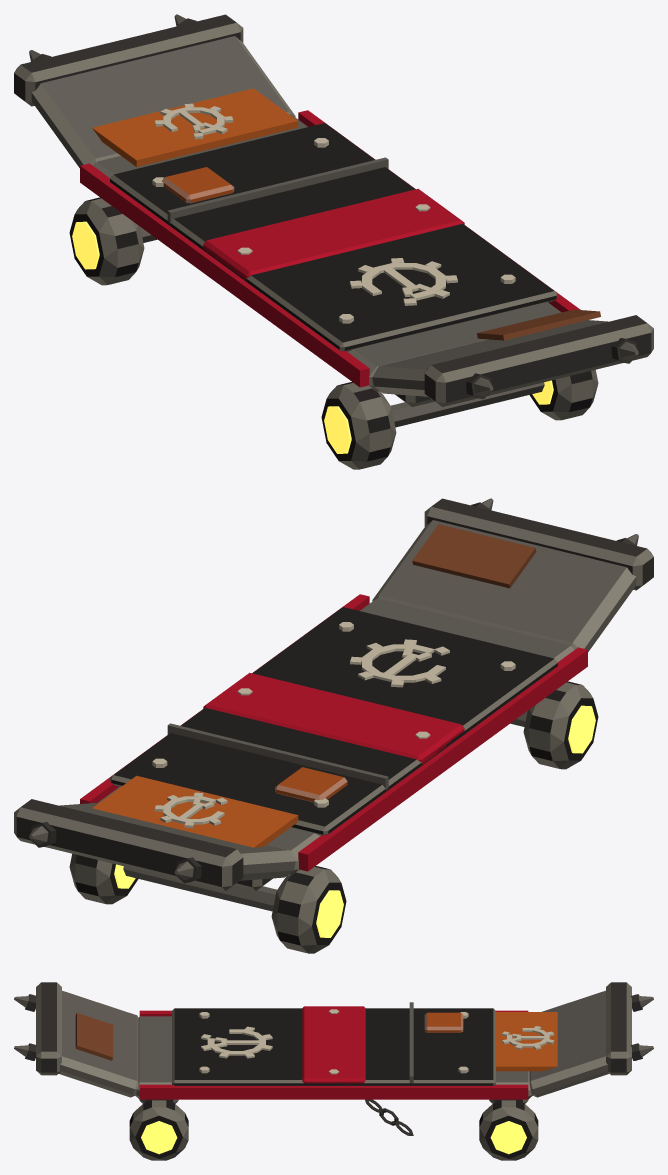
File: p_skateboard.glb
3 renders of one model, top to bottom at view 1: azimuth 30°, elevation 25°; view 2: azimuth 150°, elevation 25°; view 3: azimuth 270°, elevation 25°, orthographic. The views are drawn at different scales.
Parts seen in each view (by area): view 1: p_skateboard; view 2: p_skateboard; view 3: p_skateboard.
Part boxes in pixels (left/top/right/bottom): p_skateboard: left=14, top=14, right=653, bottom=469; p_skateboard: left=14, top=498, right=653, bottom=953; p_skateboard: left=14, top=982, right=653, bottom=1160.
Bounding box in the file's own units: 0.3099 × 0.1804 × 0.9884.
